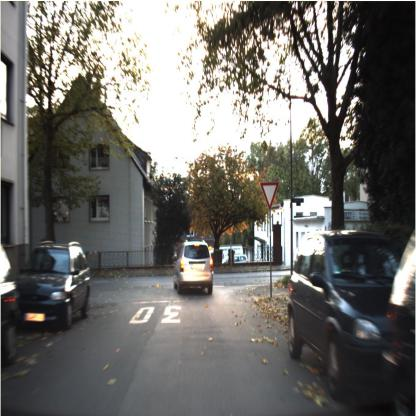other: (259, 178, 280, 214)
